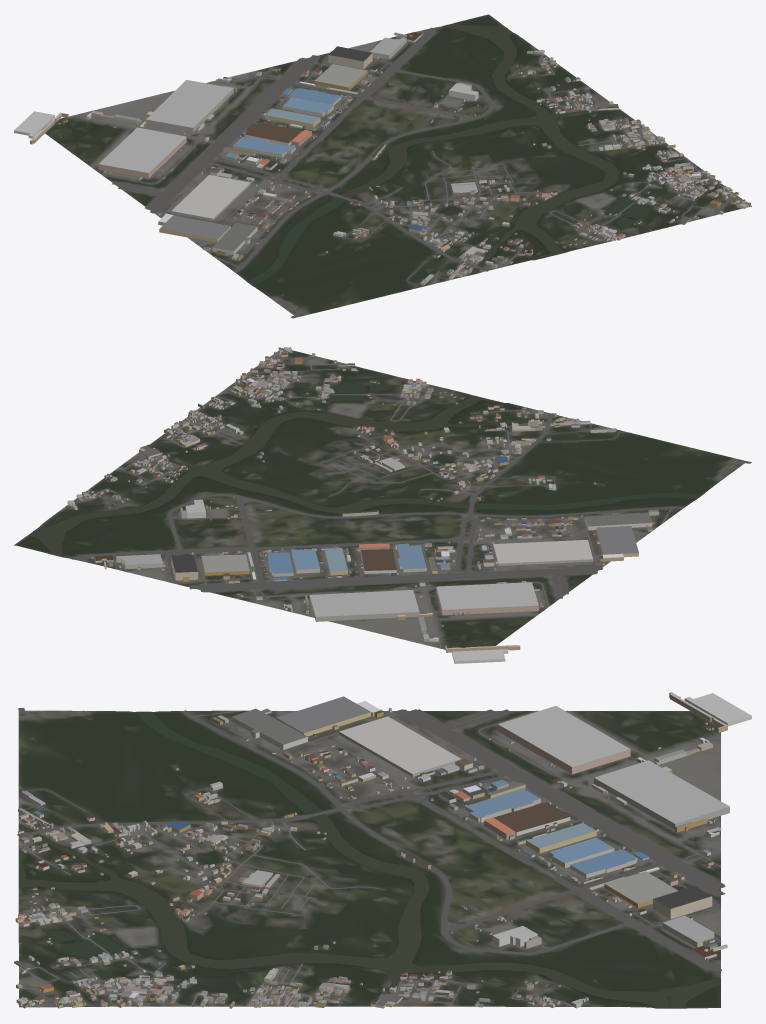
3 renders of one model, top to bottom at view 1: azimuth 30°, elevation 25°; view 2: azimuth 150°, elevation 25°; view 3: azimuth 270°, elevation 25°, orthographic. The views are drawn at different scales.
Parts seen in each view (by area): view 1: ground, buildings, roads, water; view 2: ground, buildings, roads, water; view 3: ground, buildings, roads, water.
Boxes of the visible parts, x1=… form: ground: x1=41, y1=14, x2=751, y2=316; buildings: x1=14, y1=32, x2=750, y2=285; roads: x1=71, y1=27, x2=750, y2=318; water: x1=247, y1=23, x2=677, y2=285; ground: x1=14, y1=348, x2=744, y2=649; buildings: x1=67, y1=347, x2=658, y2=663; roads: x1=71, y1=349, x2=751, y2=648; water: x1=28, y1=382, x2=701, y2=556; ground: x1=18, y1=710, x2=720, y2=1008; buildings: x1=14, y1=692, x2=751, y2=1008; roads: x1=17, y1=707, x2=725, y2=1007; water: x1=19, y1=711, x2=720, y2=1008.
Bounding box in the file's own units: 1479 × 28.43 × 1472.
